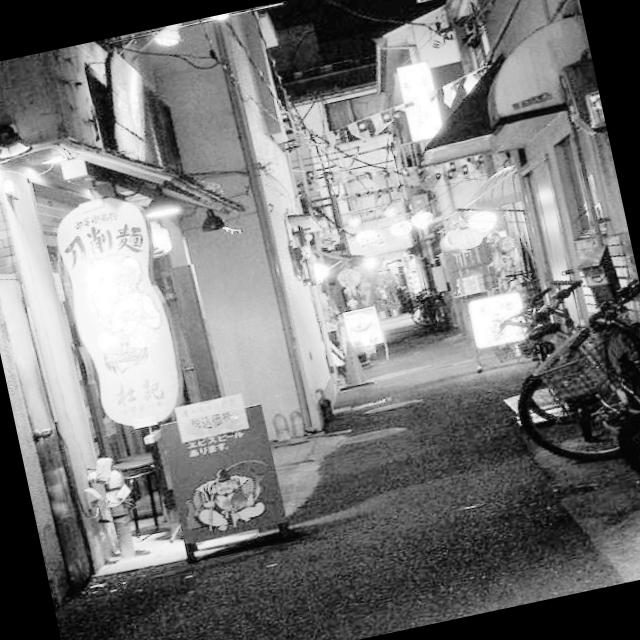Bicycle: (497, 258, 640, 525)
